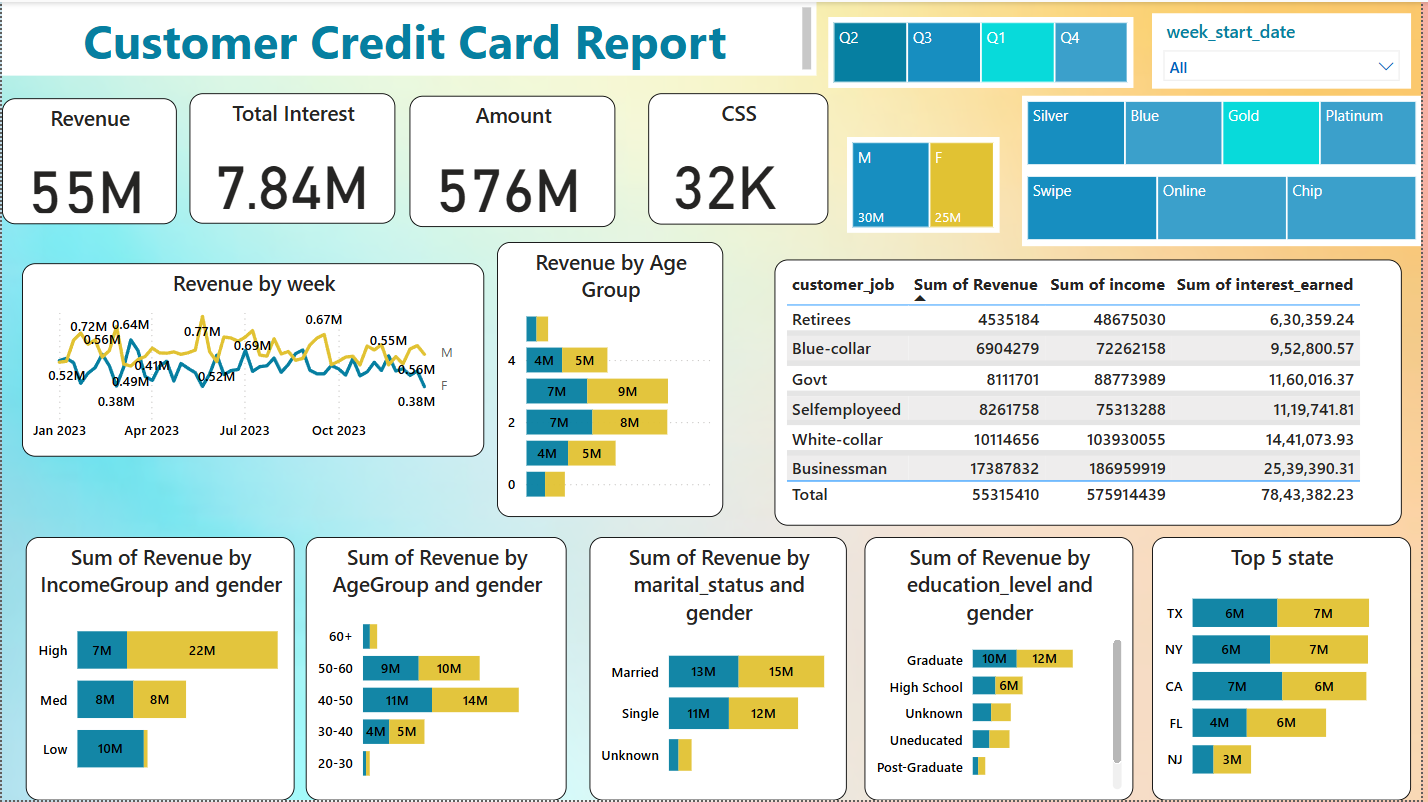

The page's visual inventory and layout, read from the dashboard file:
{"tool":"powerbi","page":{"name":"cc_detail_transaction","canvas":[1280,720],"ordinal":2},"visuals":[{"type":"textbox","box":[0,0,734.4,66.4],"z":0},{"type":"barChart","fields":{"Y":["Sum(public cc_detail.Revenue)"],"Category":["public cust_detail.IncomeGroup"],"Series":["public cust_detail.gender"]},"box":[21.4,482.4,242.3,237.8],"z":1000},{"type":"tableEx","fields":{"Values":["public cust_detail.customer_job","Sum(public cc_detail.Revenue)","Sum(public cust_detail.income)","Sum(public cc_detail.interest_earned)"]},"box":[696.6,232.2,565.8,240.1],"z":2000},{"type":"cardVisual","title":"Revenue","fields":{"Data":["Sum(public cc_detail.Revenue)"]},"box":[0,86.6,157.3,114],"z":3000},{"type":"cardVisual","title":"Amount","fields":{"Data":["Sum(public cust_detail.income)"]},"box":[367.4,84.5,186,118.3],"z":4000},{"type":"cardVisual","title":"Total Interest","fields":{"Data":["Sum(public cc_detail.interest_earned)"]},"box":[169.1,82.3,186,117.2],"z":5000},{"type":"cardVisual","title":"CSS","fields":{"Data":["Sum(public cust_detail.cust_satisfaction_score)"]},"box":[582.7,82.3,162.3,118.3],"z":6000},{"type":"slicer","fields":{"Values":["public cc_detail.week_start_date"]},"box":[1036.9,10.1,233.3,67.6],"z":7000},{"type":"treemap","fields":{"Group":["public cc_detail.qtr"],"Values":["CountNonNull(public cc_detail.client_num)"]},"box":[745,13.5,275,64.2],"z":8000},{"type":"treemap","fields":{"Group":["public cc_detail.card_category"],"Values":["Avg(public cc_detail.client_num)"]},"box":[919.7,84.5,360.7,67.6],"z":9000},{"type":"lineChart","title":"Revenue by week","fields":{"Y":["Sum(public cc_detail.Revenue)"],"Series":["public cust_detail.gender"],"Category":["public cc_detail.week_start_date.Variation.Date Hierarchy.Year","public cc_detail.week_start_date.Variation.Date Hierarchy.Month","public cc_detail.week_start_date.Variation.Date Hierarchy.Day"]},"box":[18,235.6,417,174.7],"z":10000},{"type":"treemap","fields":{"Group":["public cust_detail.gender"],"Values":["Sum(public cc_detail.Revenue)"]},"box":[761.9,121.7,137.5,86.8],"z":11000},{"type":"barChart","fields":{"Y":["Sum(public cc_detail.Revenue)"],"Category":["public cust_detail.AgeGroup"],"Series":["public cust_detail.gender"]},"box":[273.9,482.4,235.6,237.8],"z":12000},{"type":"barChart","title":"Revenue by Age Group","fields":{"Y":["Sum(public cc_detail.Revenue)"],"Category":["public cust_detail.dependent_count"],"Series":["public cust_detail.gender"]},"box":[446.3,216.4,204,248],"z":13000},{"type":"barChart","fields":{"Y":["Sum(public cc_detail.Revenue)"],"Category":["public cust_detail.education_level"],"Series":["public cust_detail.gender"]},"box":[777.7,482.4,242.3,237.8],"z":14000},{"type":"barChart","title":"Top 5 state","fields":{"Y":["Sum(public cc_detail.Revenue)"],"Category":["public cust_detail.state_cd"],"Series":["public cust_detail.gender"]},"box":[1036.9,482.4,233.3,237.8],"z":15000},{"type":"barChart","fields":{"Y":["Sum(public cc_detail.Revenue)"],"Category":["public cust_detail.marital_status"],"Series":["public cust_detail.gender"]},"box":[529.7,482.4,232.2,237.8],"z":16000},{"type":"treemap","fields":{"Values":["Avg(public cc_detail.client_num)"],"Group":["public cc_detail.use_chip"]},"box":[919.7,152.2,360.7,67.6],"z":18000}]}

Visuals, with their boxes in screenshot pixels (x1, y1, x2, y2), scaled from the page's 1280x720 canvas onto the 1428x802 screenshot:
textbox: x1=0 y1=0 x2=819 y2=74
barChart - Sum(public cc_detail.Revenue) x public cust_detail.IncomeGroup: x1=24 y1=537 x2=294 y2=801
tableEx - public cust_detail.customer_job x Sum(public cc_detail.Revenue): x1=777 y1=259 x2=1408 y2=526
"Revenue" cardVisual: x1=0 y1=96 x2=175 y2=223
"Amount" cardVisual: x1=410 y1=94 x2=617 y2=226
"Total Interest" cardVisual: x1=189 y1=92 x2=396 y2=222
"CSS" cardVisual: x1=650 y1=92 x2=831 y2=223
slicer - public cc_detail.week_start_date: x1=1157 y1=11 x2=1417 y2=87
treemap - public cc_detail.qtr x CountNonNull(public cc_detail.client_num): x1=831 y1=15 x2=1138 y2=87
treemap - public cc_detail.card_category x Avg(public cc_detail.client_num): x1=1026 y1=94 x2=1427 y2=169
"Revenue by week" lineChart: x1=20 y1=262 x2=485 y2=457
treemap - public cust_detail.gender x Sum(public cc_detail.Revenue): x1=850 y1=136 x2=1003 y2=232
barChart - Sum(public cc_detail.Revenue) x public cust_detail.AgeGroup: x1=306 y1=537 x2=568 y2=801
"Revenue by Age Group" barChart: x1=498 y1=241 x2=725 y2=517
barChart - Sum(public cc_detail.Revenue) x public cust_detail.education_level: x1=868 y1=537 x2=1138 y2=801
"Top 5 state" barChart: x1=1157 y1=537 x2=1417 y2=801
barChart - Sum(public cc_detail.Revenue) x public cust_detail.marital_status: x1=591 y1=537 x2=850 y2=801
treemap - Avg(public cc_detail.client_num) x public cc_detail.use_chip: x1=1026 y1=170 x2=1427 y2=245
